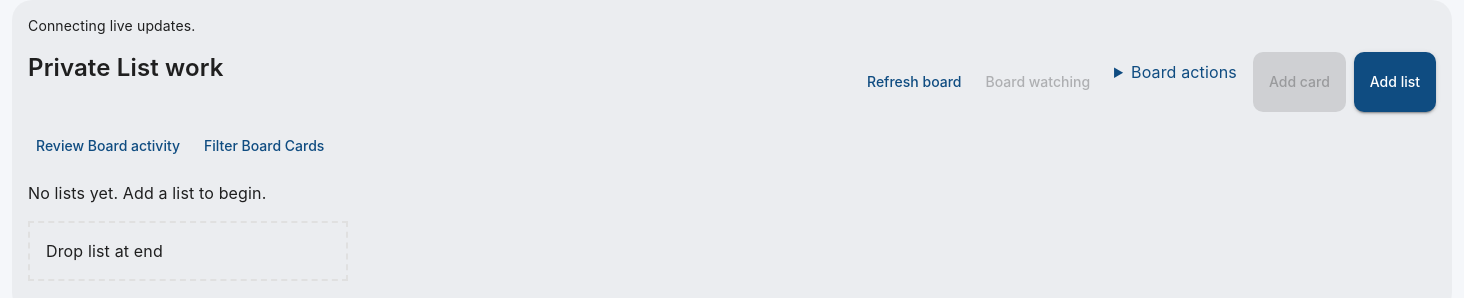
Test: PRD-07-VS-05 List creation identity › does not open a late List form after a newer protected Board refusal
Click the button "Add list" at {"x": 1395, "y": 82}, box [1354,52,1436,112]
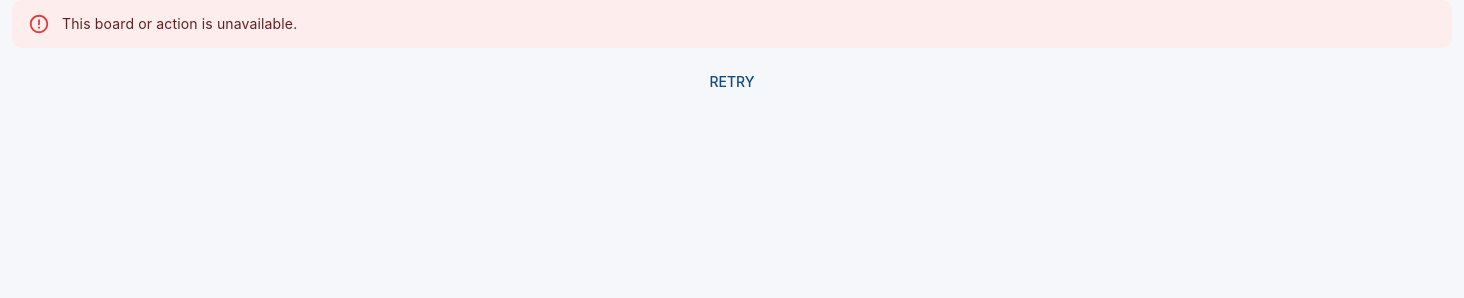
Result: the message shows "unavailable" at [62,15,297,32]
Result: the heading "Private List work" is gone
